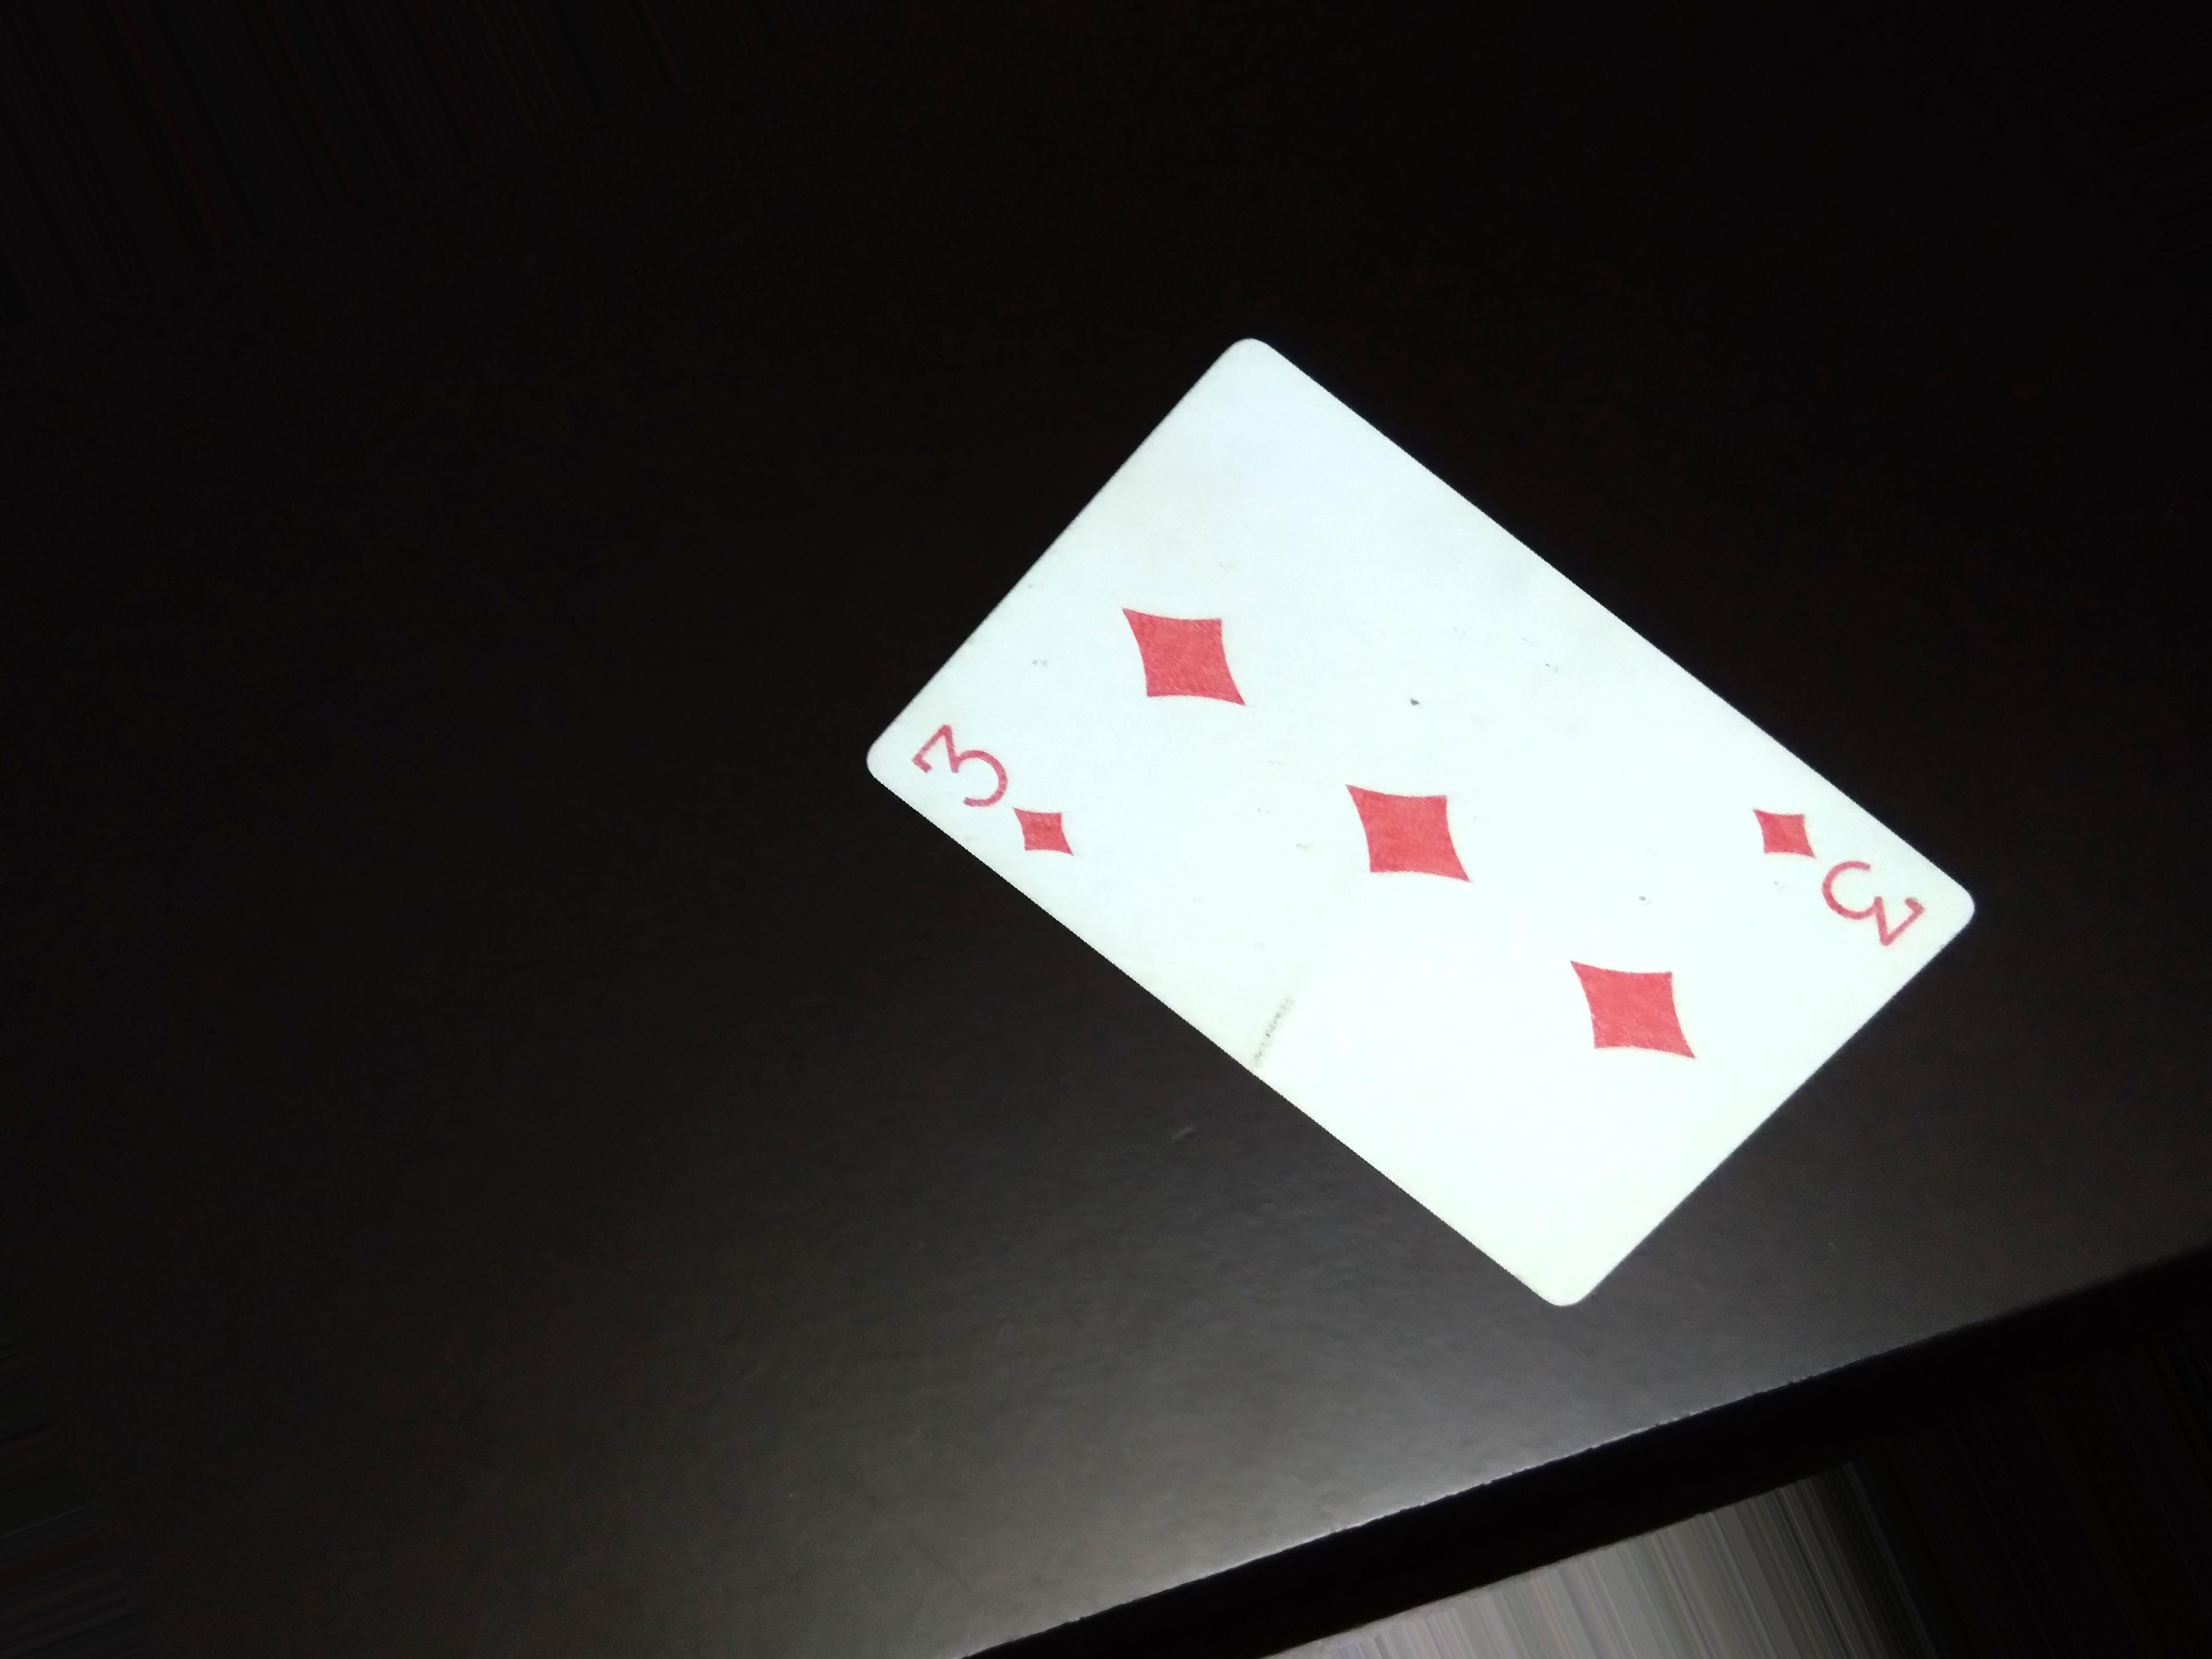3D: (1731, 800, 1949, 958)
